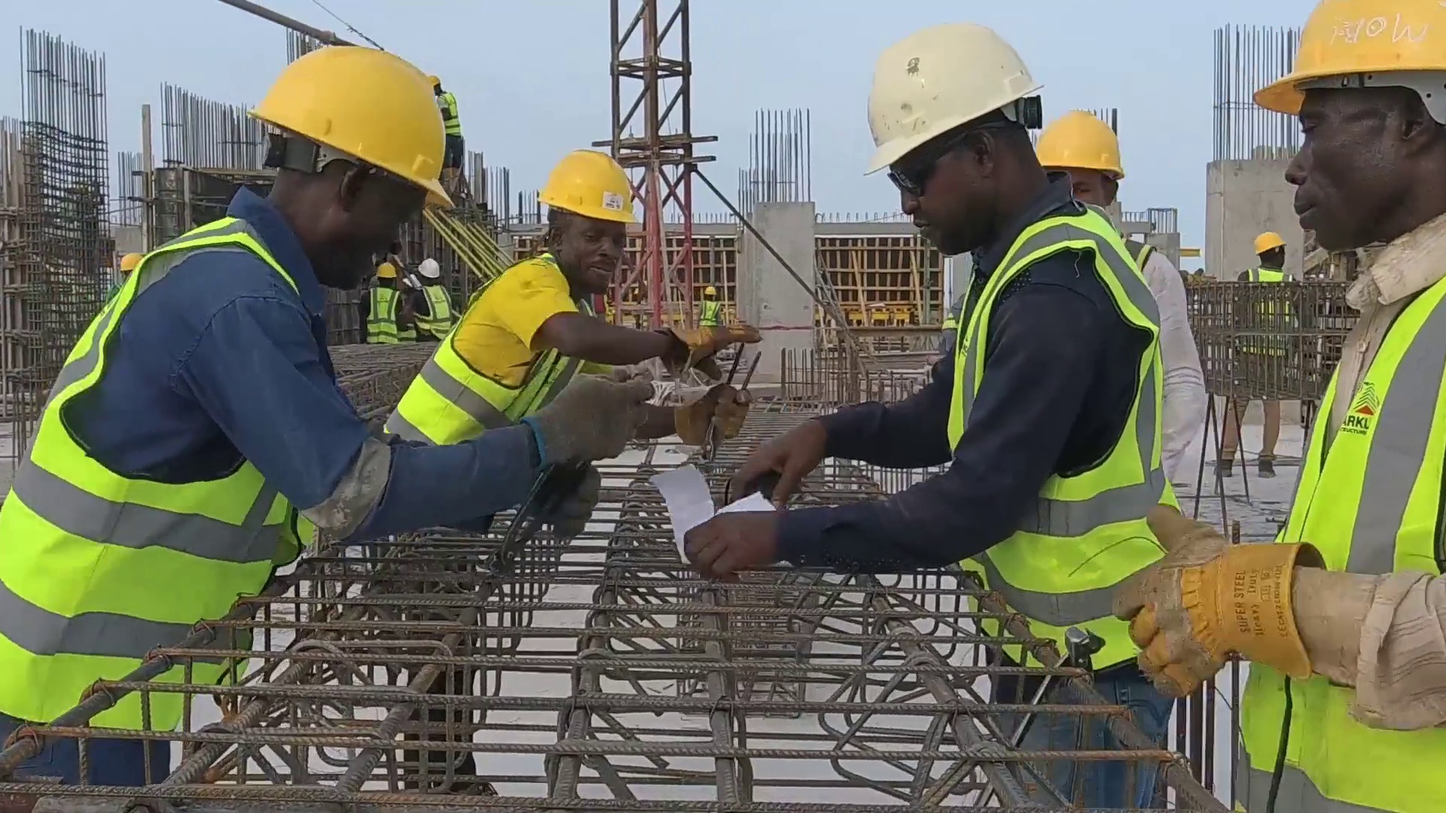helmet: (243, 45, 456, 210), (863, 23, 1047, 178), (1253, 1, 1446, 127), (538, 150, 636, 225), (1033, 110, 1126, 181), (1255, 232, 1286, 256), (416, 257, 439, 279), (120, 253, 142, 271), (377, 262, 397, 279), (706, 287, 716, 296)
person: (0, 42, 679, 787), (682, 20, 1182, 813), (1121, 0, 1446, 813), (381, 149, 766, 809), (1034, 110, 1213, 510), (1229, 230, 1301, 477), (403, 258, 459, 343), (428, 75, 465, 192), (365, 261, 404, 346), (114, 252, 145, 300), (700, 286, 723, 328)
